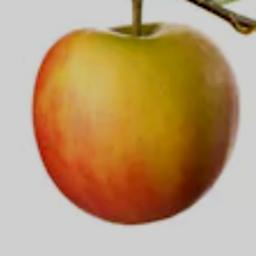Apple Ripe: (6, 12, 254, 237)
